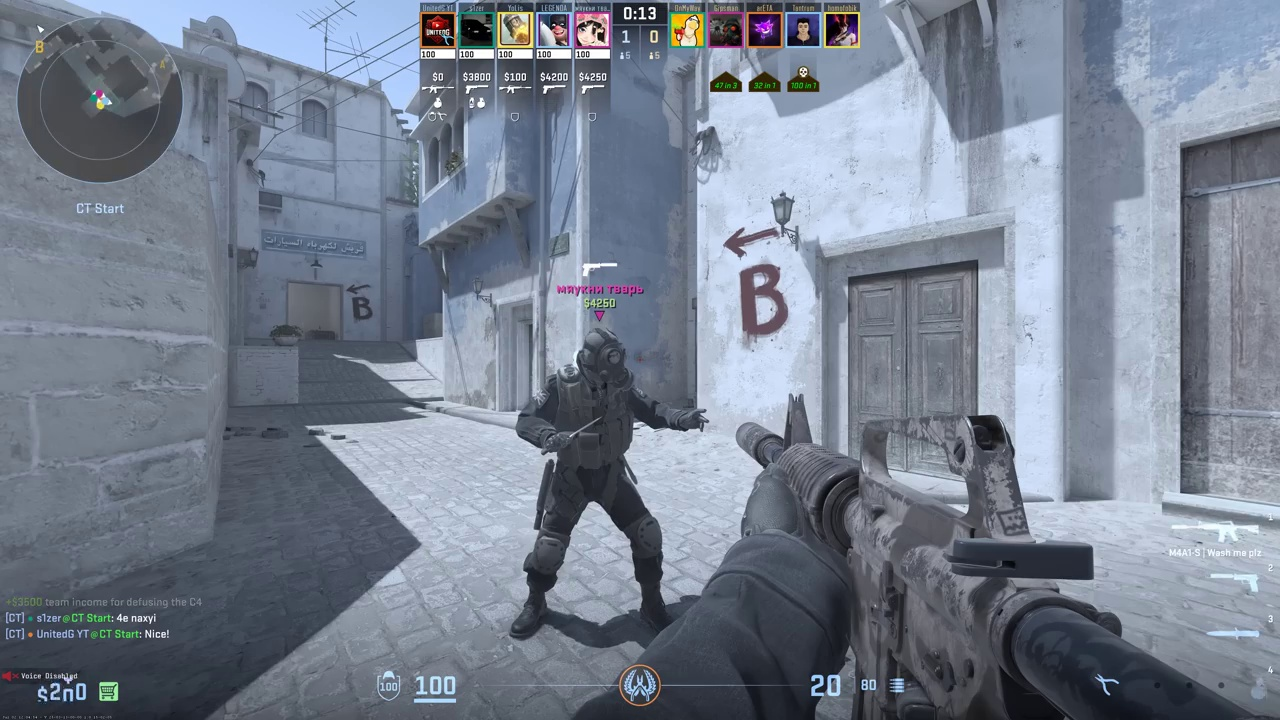CT: (517, 328, 663, 639)
